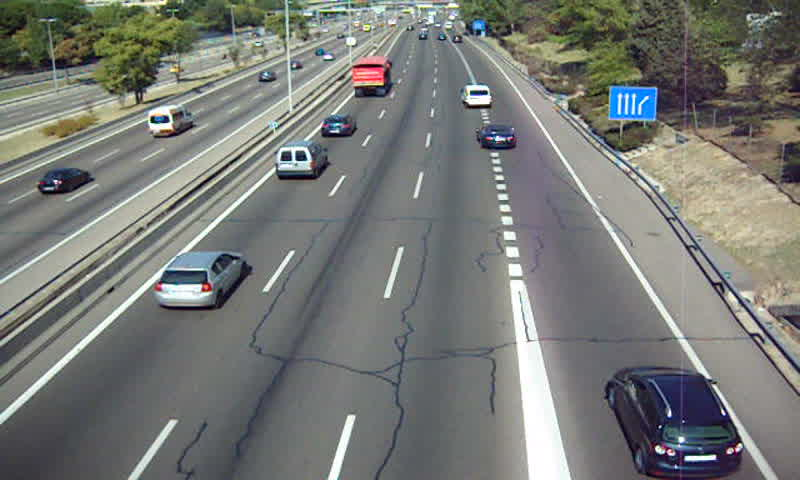car: (605, 365, 743, 478), (152, 253, 245, 307), (477, 124, 517, 150), (321, 114, 356, 137)
truck: (352, 58, 393, 94)
van: (275, 142, 326, 177), (460, 84, 492, 107)
